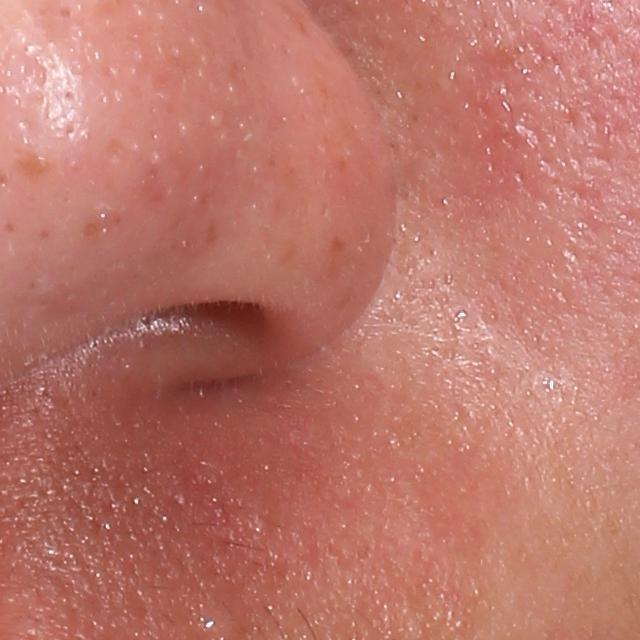melasma: (12, 145, 57, 180)
